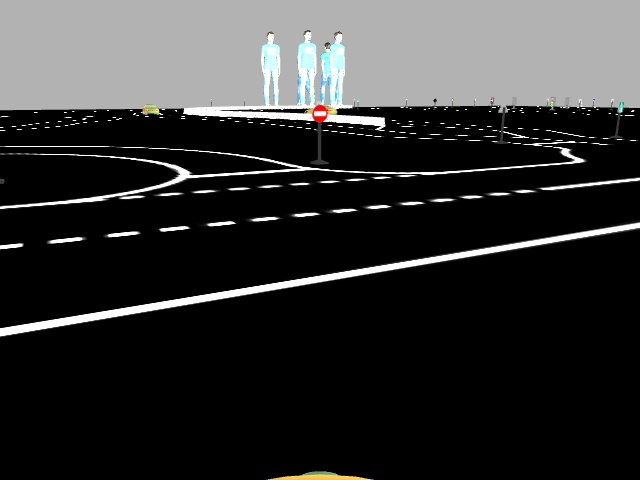NoEntry: (310, 104, 329, 121)
